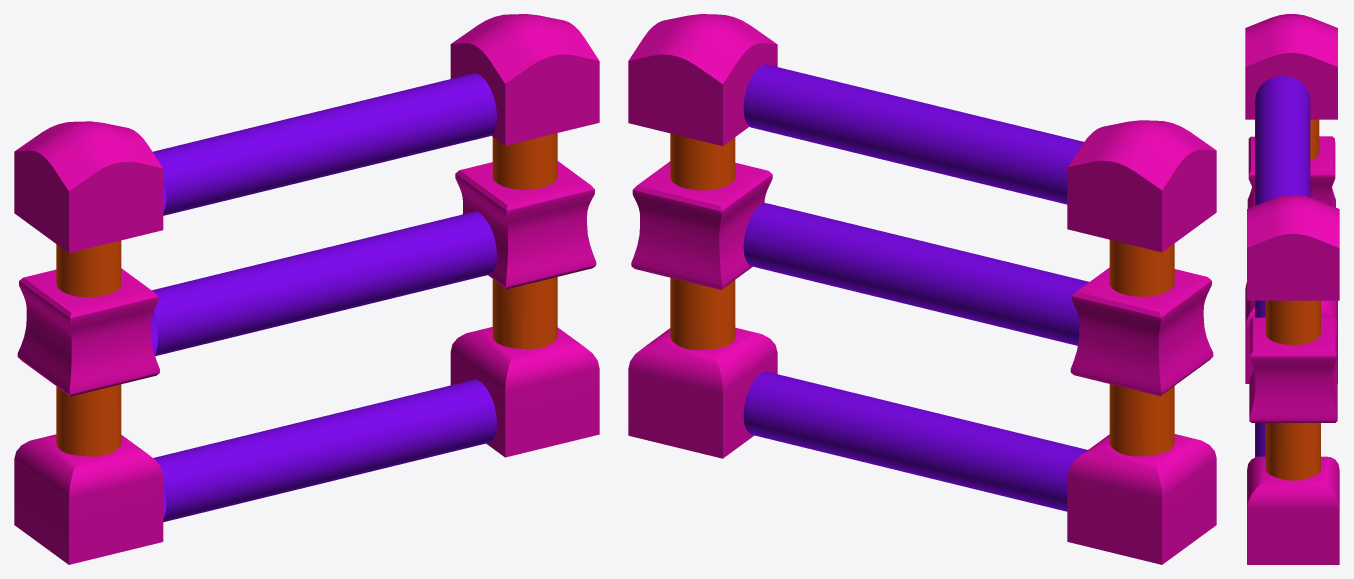
Rendered from Fence_Full2.fbx.
The picture shows the model from 3 angles, left to right: view 1: azimuth 30°, elevation 25°; view 2: azimuth 150°, elevation 25°; view 3: azimuth 270°, elevation 25°; orthographic projection. The views are drawn at different scales.
Visible parts, largest first — view 1: pCube112; view 2: pCube112; view 3: pCube112.
Boxes of the visible parts, x1=… form: pCube112: x1=14, y1=14, x2=599, y2=564; pCube112: x1=628, y1=14, x2=1216, y2=564; pCube112: x1=1245, y1=14, x2=1339, y2=564.
Bounding box in the file's own units: 33.78 × 24.63 × 6.11.
